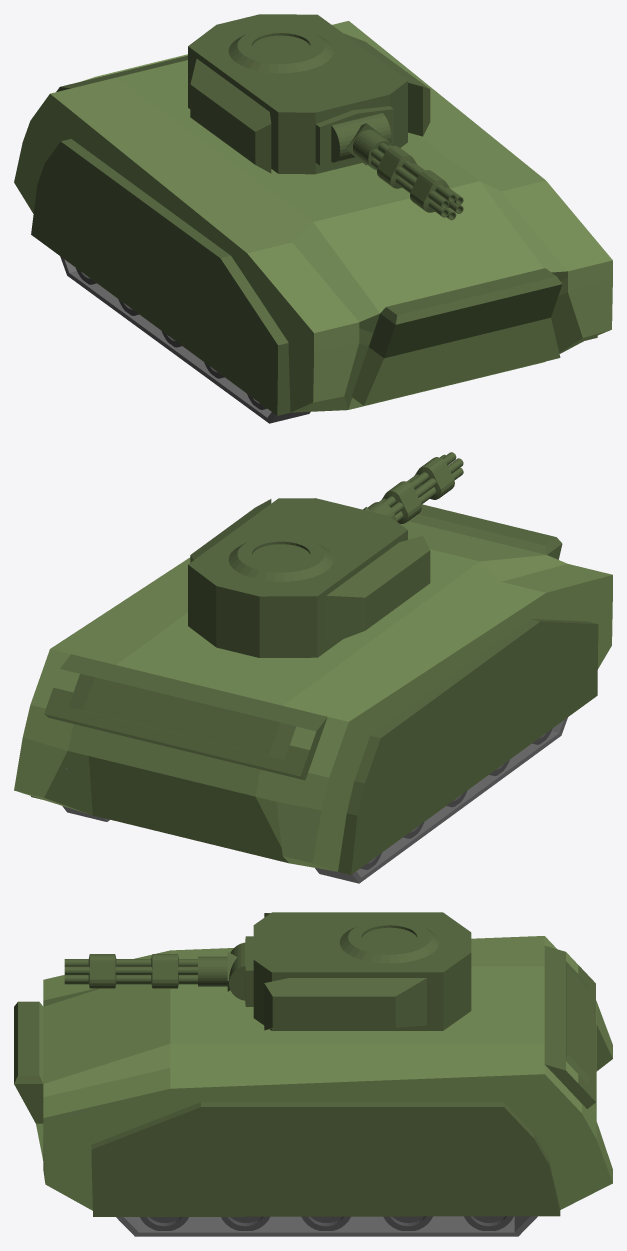
Rendered from tier2.fbx.
The picture shows the model from 3 angles, top to bottom: view 1: azimuth 30°, elevation 25°; view 2: azimuth 150°, elevation 25°; view 3: azimuth 270°, elevation 25°; orthographic projection. The views are drawn at different scales.
Visible parts, largest first — view 1: Body14, Turret14, Main Gun14, Tracks14, ST14, Road Wheels14; view 2: Body14, Turret14, Main Gun14, Tracks14, Road Wheels14; view 3: Body14, Turret14, Tracks14, Main Gun14, Road Wheels14, ST14.
Boxes of the visible parts, x1,y1,x2,y2 form: Body14: [14, 21, 612, 415]; Turret14: [188, 14, 430, 174]; Main Gun14: [353, 129, 463, 220]; Tracks14: [60, 256, 310, 423]; ST14: [331, 113, 391, 165]; Road Wheels14: [76, 268, 266, 409]; Body14: [14, 504, 612, 874]; Turret14: [188, 498, 430, 657]; Main Gun14: [367, 452, 463, 523]; Tracks14: [62, 717, 567, 883]; Road Wheels14: [360, 728, 552, 869]; Body14: [14, 936, 612, 1216]; Turret14: [244, 912, 471, 1030]; Tracks14: [116, 1216, 537, 1236]; Main Gun14: [64, 954, 227, 988]; Road Wheels14: [140, 1216, 513, 1230]; ST14: [227, 942, 245, 1000].
Size of the model in its own units: 386 by 281 by 659.
